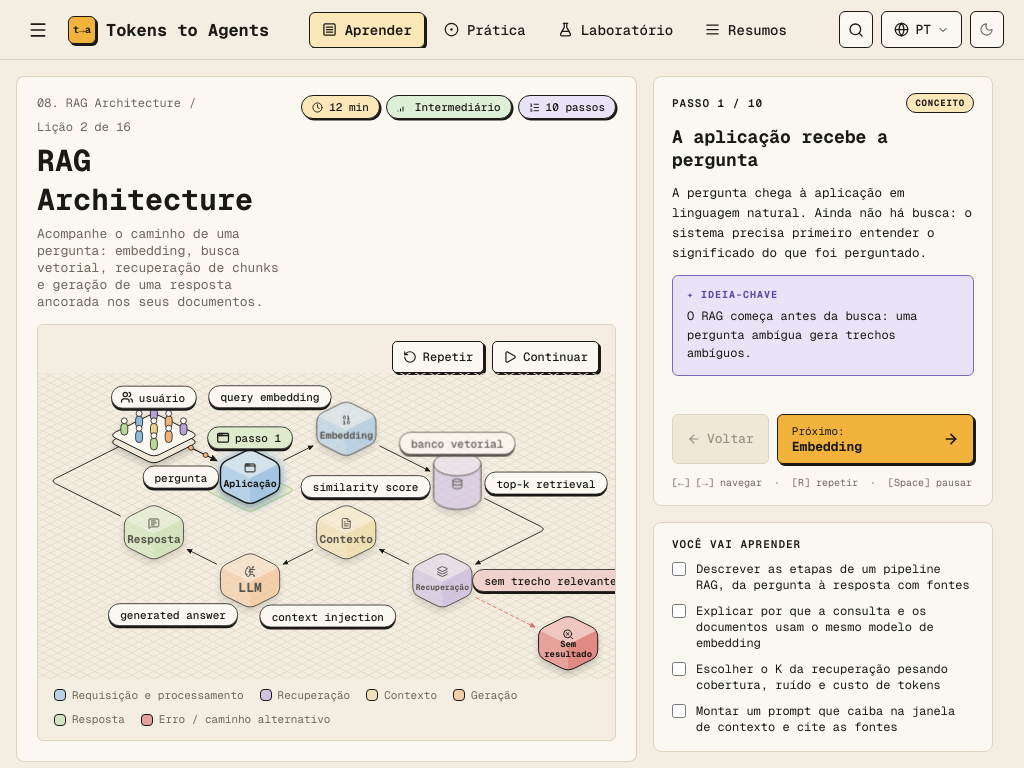
Test case: App › avança para o próximo passo atualizando painel, timeline e diagrama juntos
Expected: the heading "RAG Architecture" is shown, x1=37 y1=141 x2=285 y2=219
Click the button "Próximo: Embedding".
click(875, 439)  # box x1=777 y1=414 x2=974 y2=464
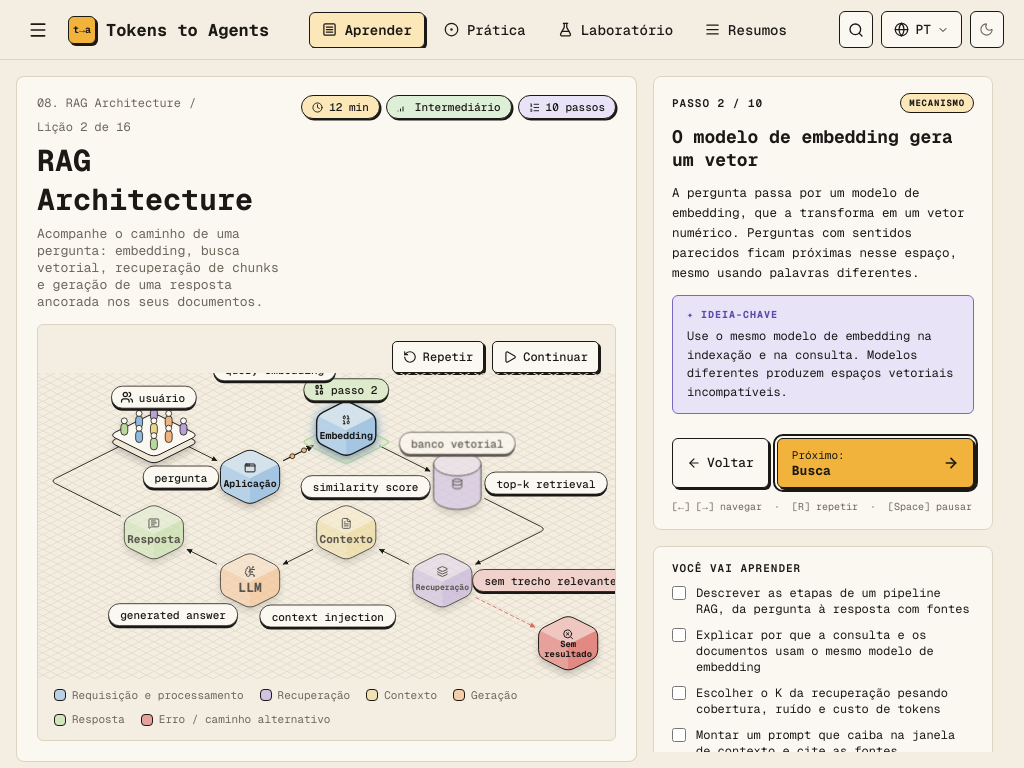
Now the heading "O modelo de embedding gera um vetor" is shown, box x1=672 y1=125 x2=974 y2=171
Now the button "Voltar" is enabled, box x1=672 y1=438 x2=769 y2=488
